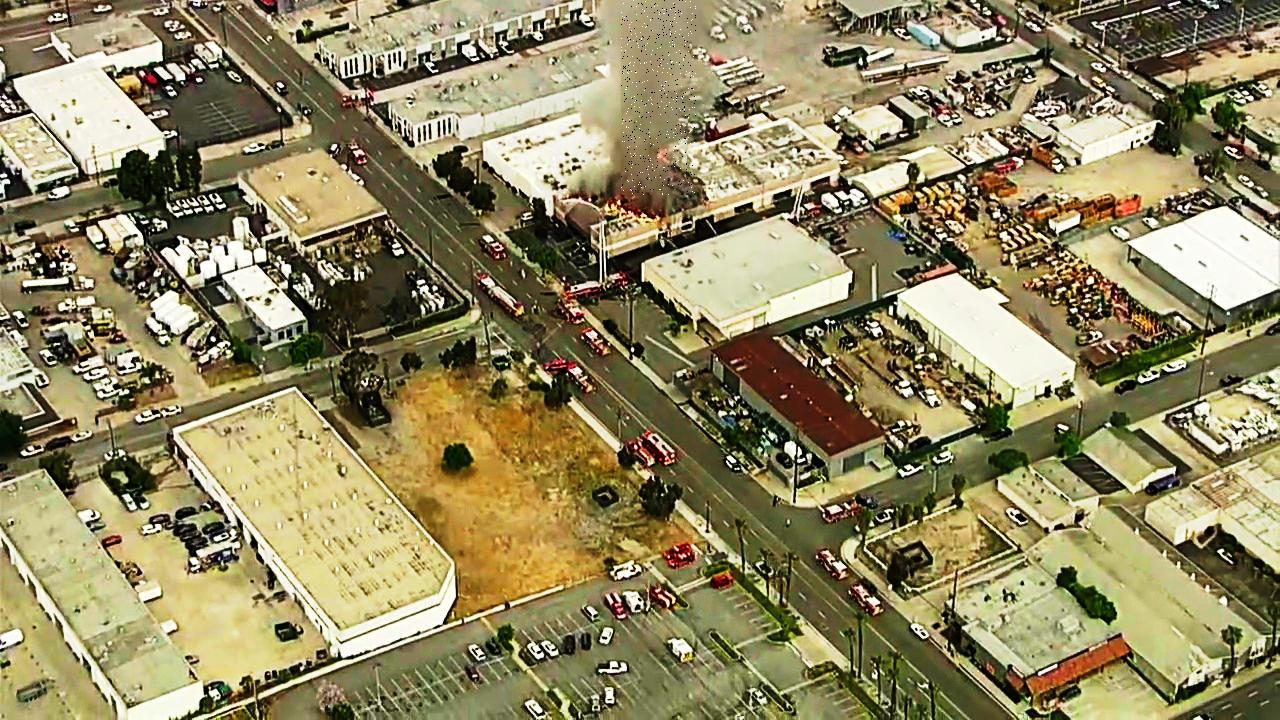smoke: (622, 0, 697, 195)
